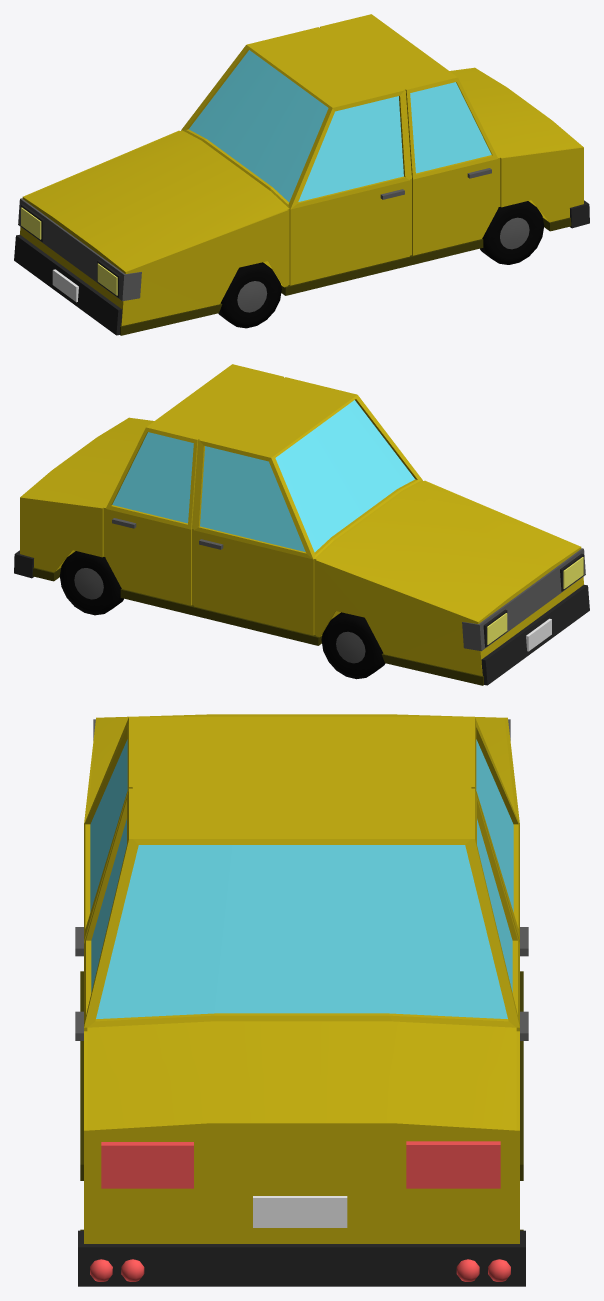
Rendered from car.FBX.
3 views of the same model, one above another, from view 1: azimuth 30°, elevation 25°; view 2: azimuth 150°, elevation 25°; view 3: azimuth 270°, elevation 25° (orthographic). The views are drawn at different scales.
Visible parts, largest first — view 1: Box001, Object, Cylinder004, Cylinder003, Box002, Box003, Box005, Box004, Box017, Box012; view 2: Box001, Object, Cylinder002, Cylinder001, Box002, Box003, Box005, Box004, Box017, Box012; view 3: Box001, Object, Box012, Box010, Box009, Box011, Box005.
Part boxes in pixels (x1,y1,x2,y2): Box001: (20,14,583,325); Object: (189,50,491,202); Cylinder004: (218,262,281,328); Cylinder003: (480,201,544,264); Box002: (14,234,122,335); Box003: (18,198,141,301); Box005: (281,239,483,295); Box004: (120,303,222,335); Box017: (52,269,78,302); Box012: (570,200,589,228); Box001: (20,364,583,675); Object: (112,400,414,552); Cylinder002: (321,612,385,679); Cylinder001: (59,551,123,615); Box002: (481,584,589,685); Box003: (462,548,585,651); Box005: (120,589,321,645); Box004: (381,653,483,685); Box017: (526,618,551,651); Box012: (14,550,33,578); Box001: (84,714,519,1243); Object: (90,739,513,1018); Box012: (78,1230,525,1286); Box010: (406,1141,500,1188); Box009: (101,1142,193,1188); Box011: (253,1196,347,1227); Box005: (80,971,523,1180).
Bounding box in the file's own units: 89.01 × 34.31 × 36.89.
